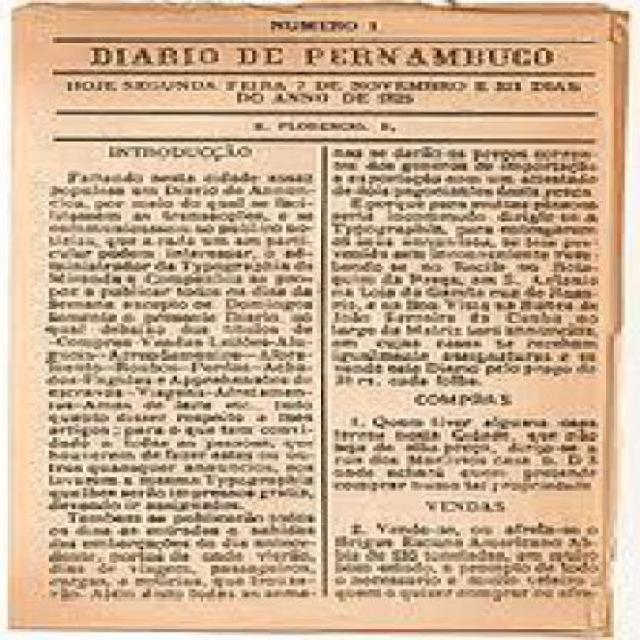PAPER: (11, 2, 606, 635)
